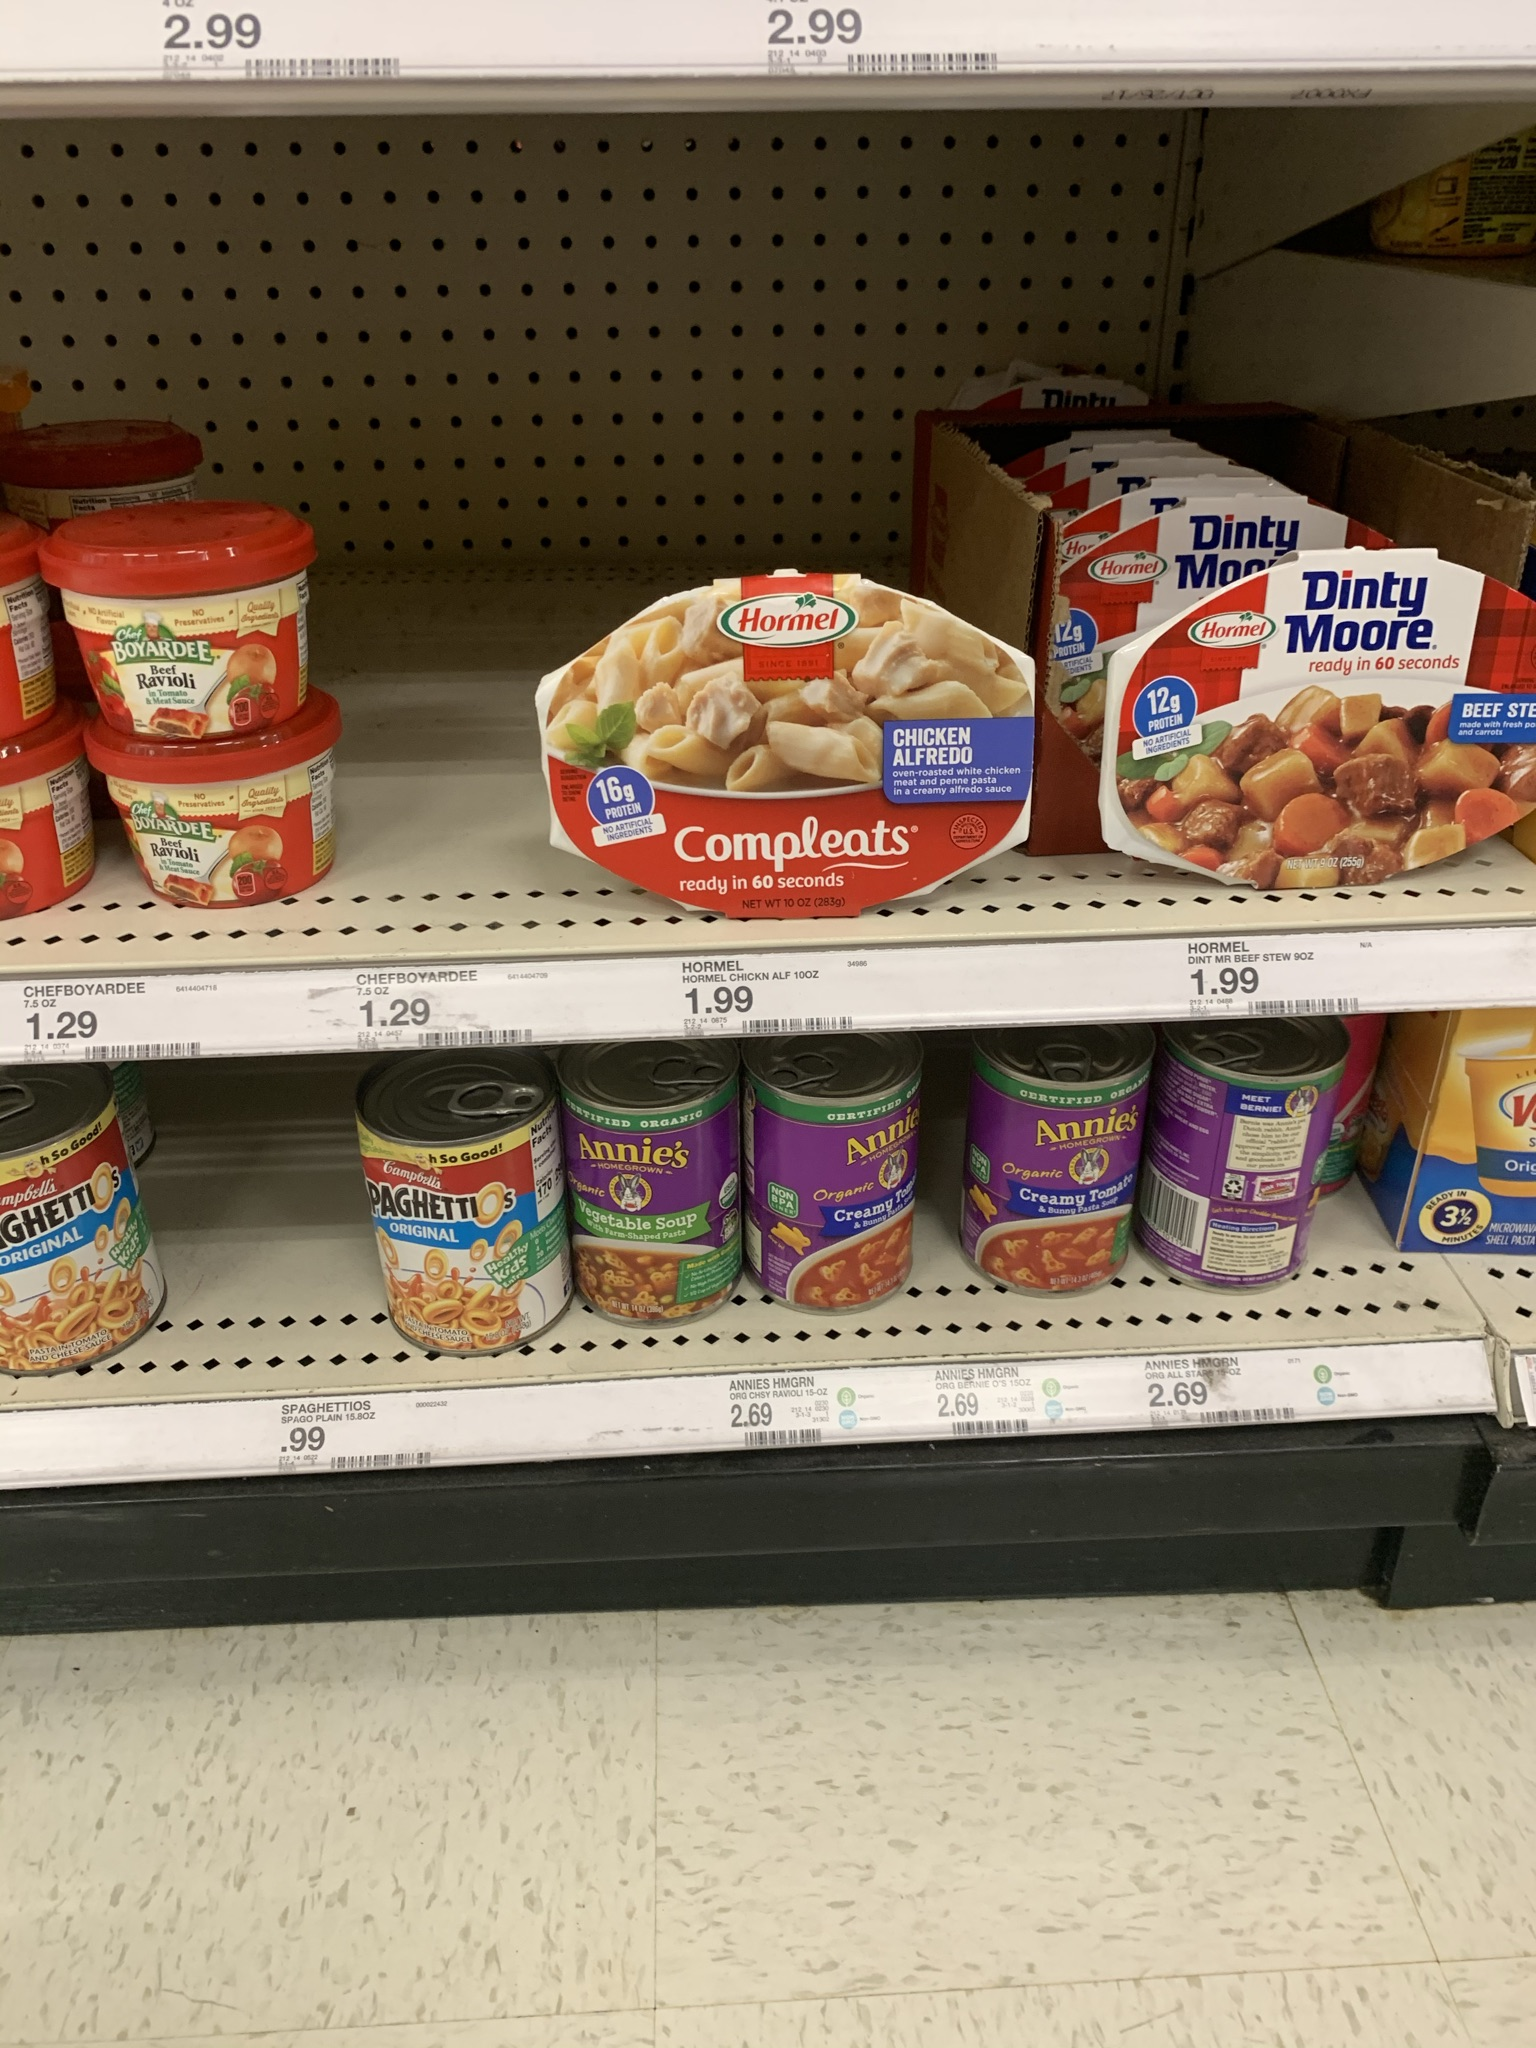can: (50, 548, 315, 748), (98, 756, 344, 910), (973, 1064, 1131, 1287), (384, 1130, 537, 1342), (1173, 1068, 1321, 1277), (755, 1095, 910, 1287), (582, 1116, 724, 1309)
